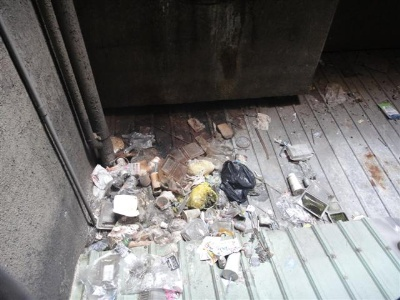bottle: (219, 250, 241, 287), (286, 172, 303, 196), (150, 170, 162, 195), (181, 207, 201, 220)
box: (297, 190, 329, 218)
plastic_bag: (82, 255, 183, 292), (218, 159, 256, 204)
